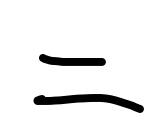eqv: (33, 53, 144, 113)
